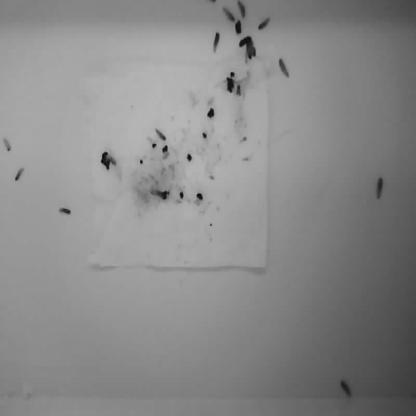PtecticusTenebrifer: (236, 0, 250, 19), (278, 58, 290, 80), (340, 380, 352, 398), (224, 6, 235, 24), (259, 15, 271, 30), (15, 167, 26, 183), (2, 138, 13, 154), (376, 177, 383, 202), (154, 128, 166, 140), (58, 207, 72, 216), (214, 32, 219, 55)
